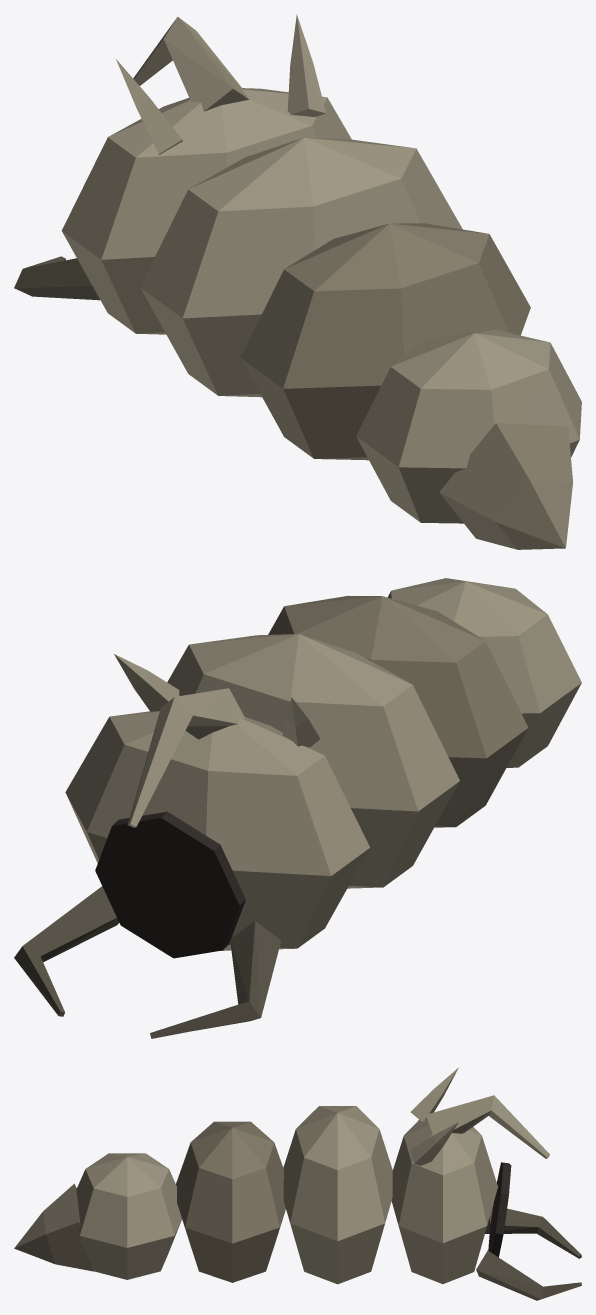
The model's file is vge_exopede.obj.
The picture shows the model from 3 angles, top to bottom: view 1: azimuth 30°, elevation 25°; view 2: azimuth 150°, elevation 25°; view 3: azimuth 270°, elevation 25°; orthographic projection. The views are drawn at different scales.
Parts seen in each view (by area): view 1: vge_exopede_1, vge_exopede_2, vge_exopede_0, vge_exopede_4, vge_exopede_3, vge_exopede_6, vge_exopede_8, vge_exopede_9, vge_exopede_7; view 2: vge_exopede_4, vge_exopede_2, vge_exopede_1, vge_exopede_5, vge_exopede_0, vge_exopede_6, vge_exopede_8, vge_exopede_10, vge_exopede_9, vge_exopede_7; view 3: vge_exopede_2, vge_exopede_1, vge_exopede_4, vge_exopede_0, vge_exopede_3, vge_exopede_6, vge_exopede_10, vge_exopede_8, vge_exopede_5, vge_exopede_9, vge_exopede_7.
Part boxes in pixels (x1,y1,x2,y2): vge_exopede_1: (240, 223, 530, 460); vge_exopede_2: (140, 137, 462, 397); vge_exopede_0: (356, 329, 581, 523); vge_exopede_4: (61, 88, 351, 334); vge_exopede_3: (439, 423, 572, 549); vge_exopede_6: (133, 17, 248, 111); vge_exopede_8: (14, 256, 99, 300); vge_exopede_9: (287, 14, 326, 116); vge_exopede_7: (116, 59, 182, 154); vge_exopede_4: (65, 711, 370, 950); vge_exopede_2: (167, 634, 459, 888); vge_exopede_1: (268, 595, 528, 827); vge_exopede_5: (95, 811, 245, 958); vge_exopede_0: (387, 578, 581, 767); vge_exopede_6: (127, 688, 245, 827); vge_exopede_8: (150, 921, 281, 1038); vge_exopede_10: (14, 886, 118, 1016); vge_exopede_9: (114, 654, 179, 711); vge_exopede_7: (282, 697, 320, 747); vge_exopede_2: (283, 1106, 392, 1284); vge_exopede_1: (176, 1121, 285, 1282); vge_exopede_4: (391, 1119, 497, 1283); vge_exopede_0: (76, 1153, 181, 1279); vge_exopede_3: (14, 1183, 94, 1271); vge_exopede_6: (426, 1095, 549, 1158); vge_exopede_10: (476, 1250, 581, 1300); vge_exopede_8: (485, 1205, 581, 1258); vge_exopede_5: (488, 1162, 511, 1257); vge_exopede_9: (410, 1122, 458, 1165); vge_exopede_7: (410, 1067, 458, 1121).
Bounding box in the file's own units: 0.5323 × 0.49 × 1.4.
